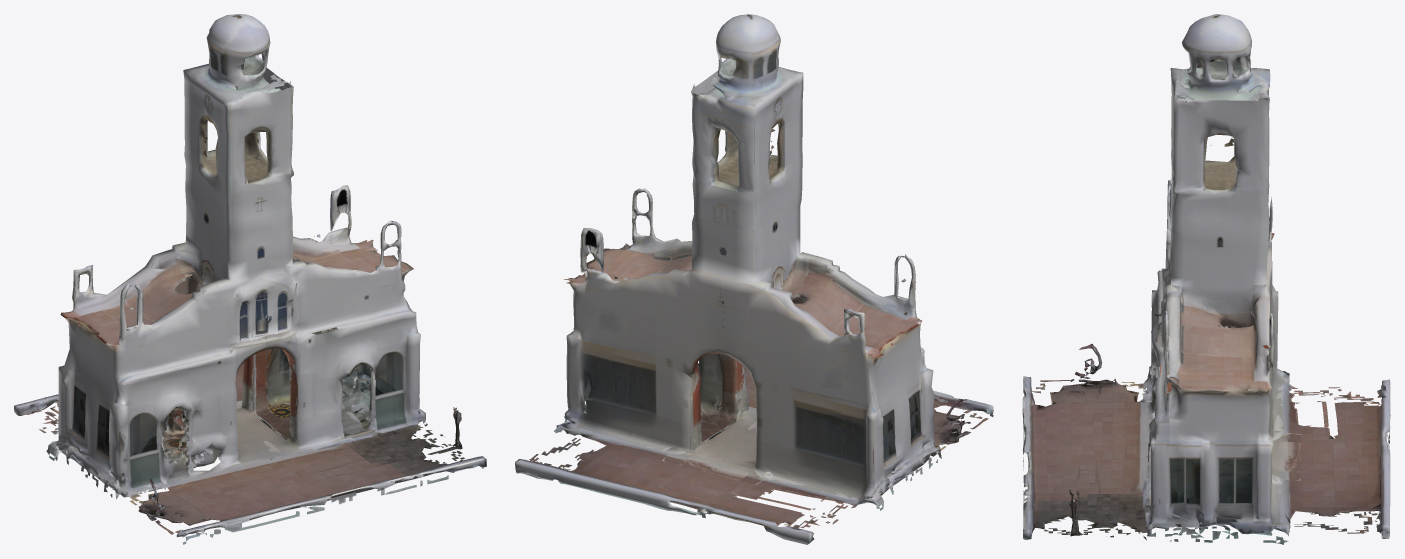
The model's file is iglesia_sanroque.glb.
The picture shows the model from 3 angles, left to right: view 1: azimuth 30°, elevation 25°; view 2: azimuth 150°, elevation 25°; view 3: azimuth 270°, elevation 25°; orthographic projection. The views are drawn at different scales.
Bounding box in the file's own units: 1.51 × 1.94 × 1.44.
1 material, 1 textured.
